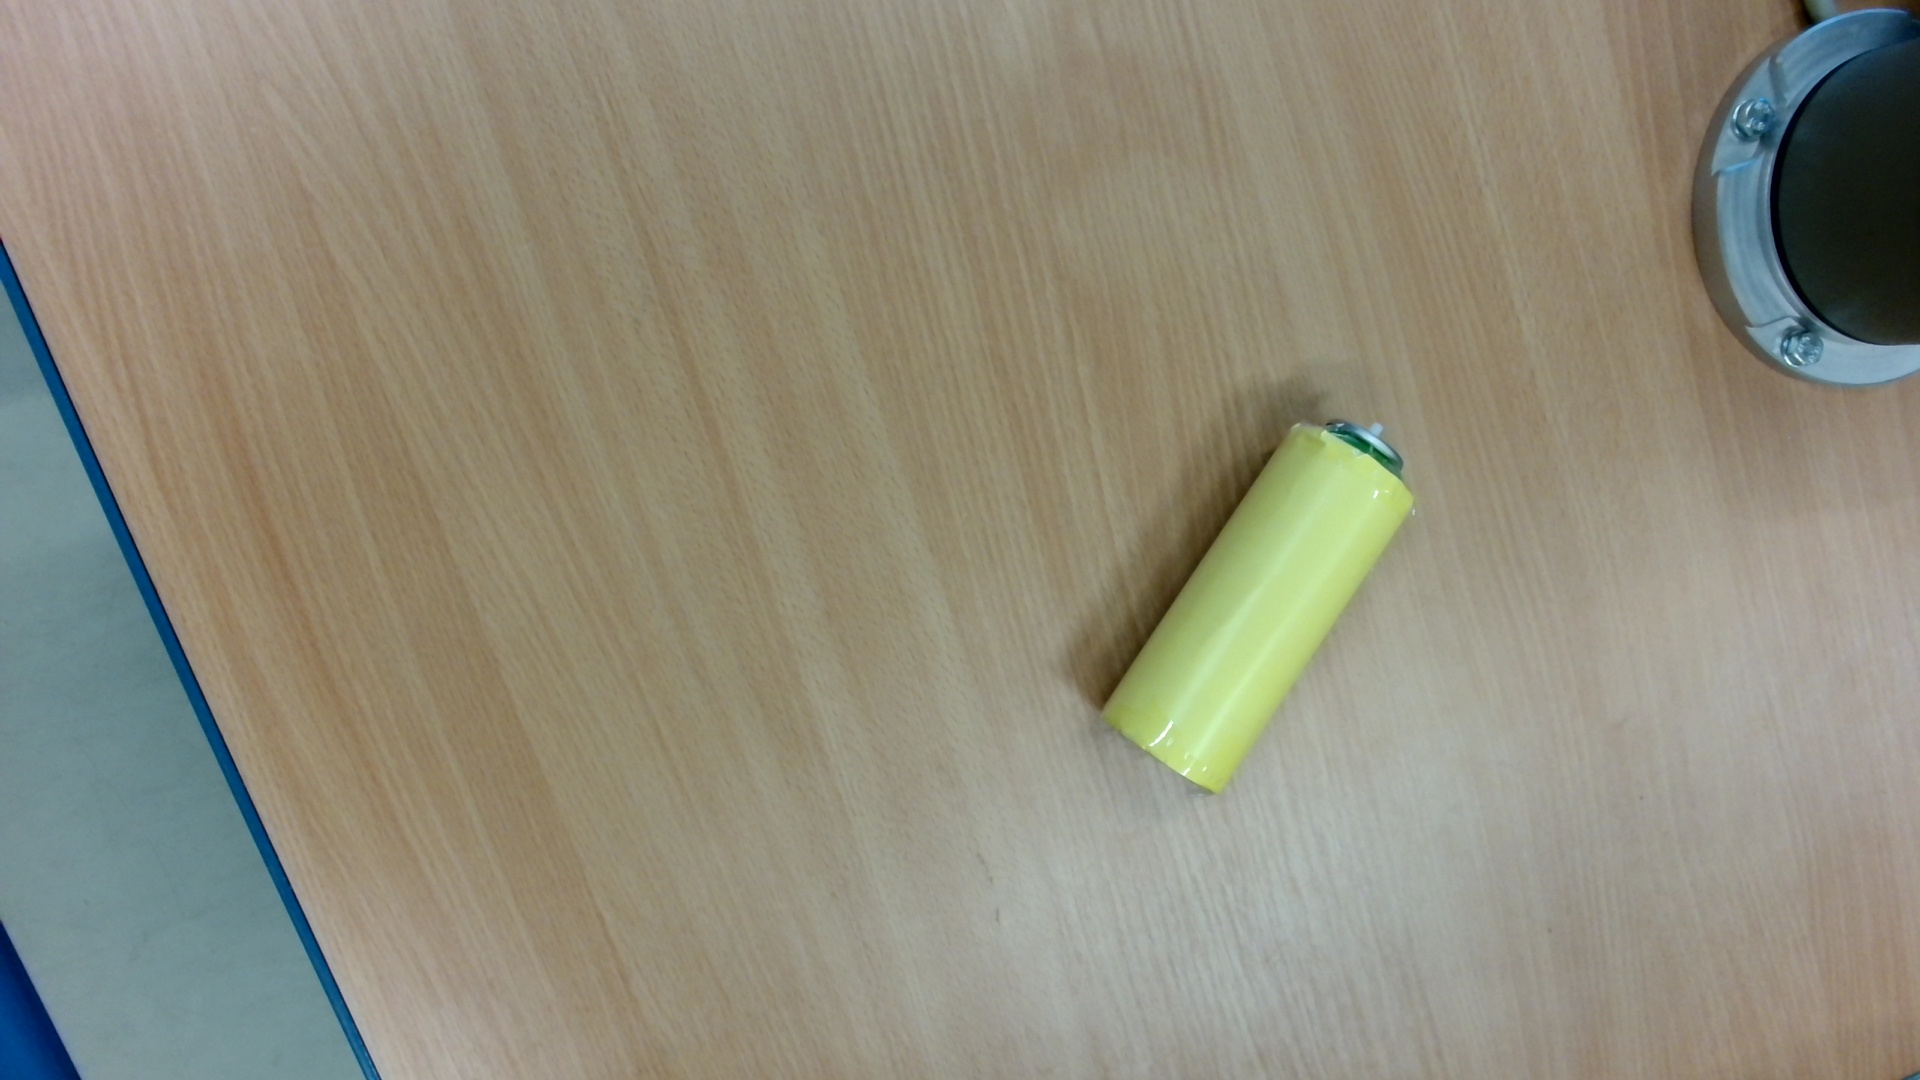Cylinder: (1088, 405, 1425, 808)
